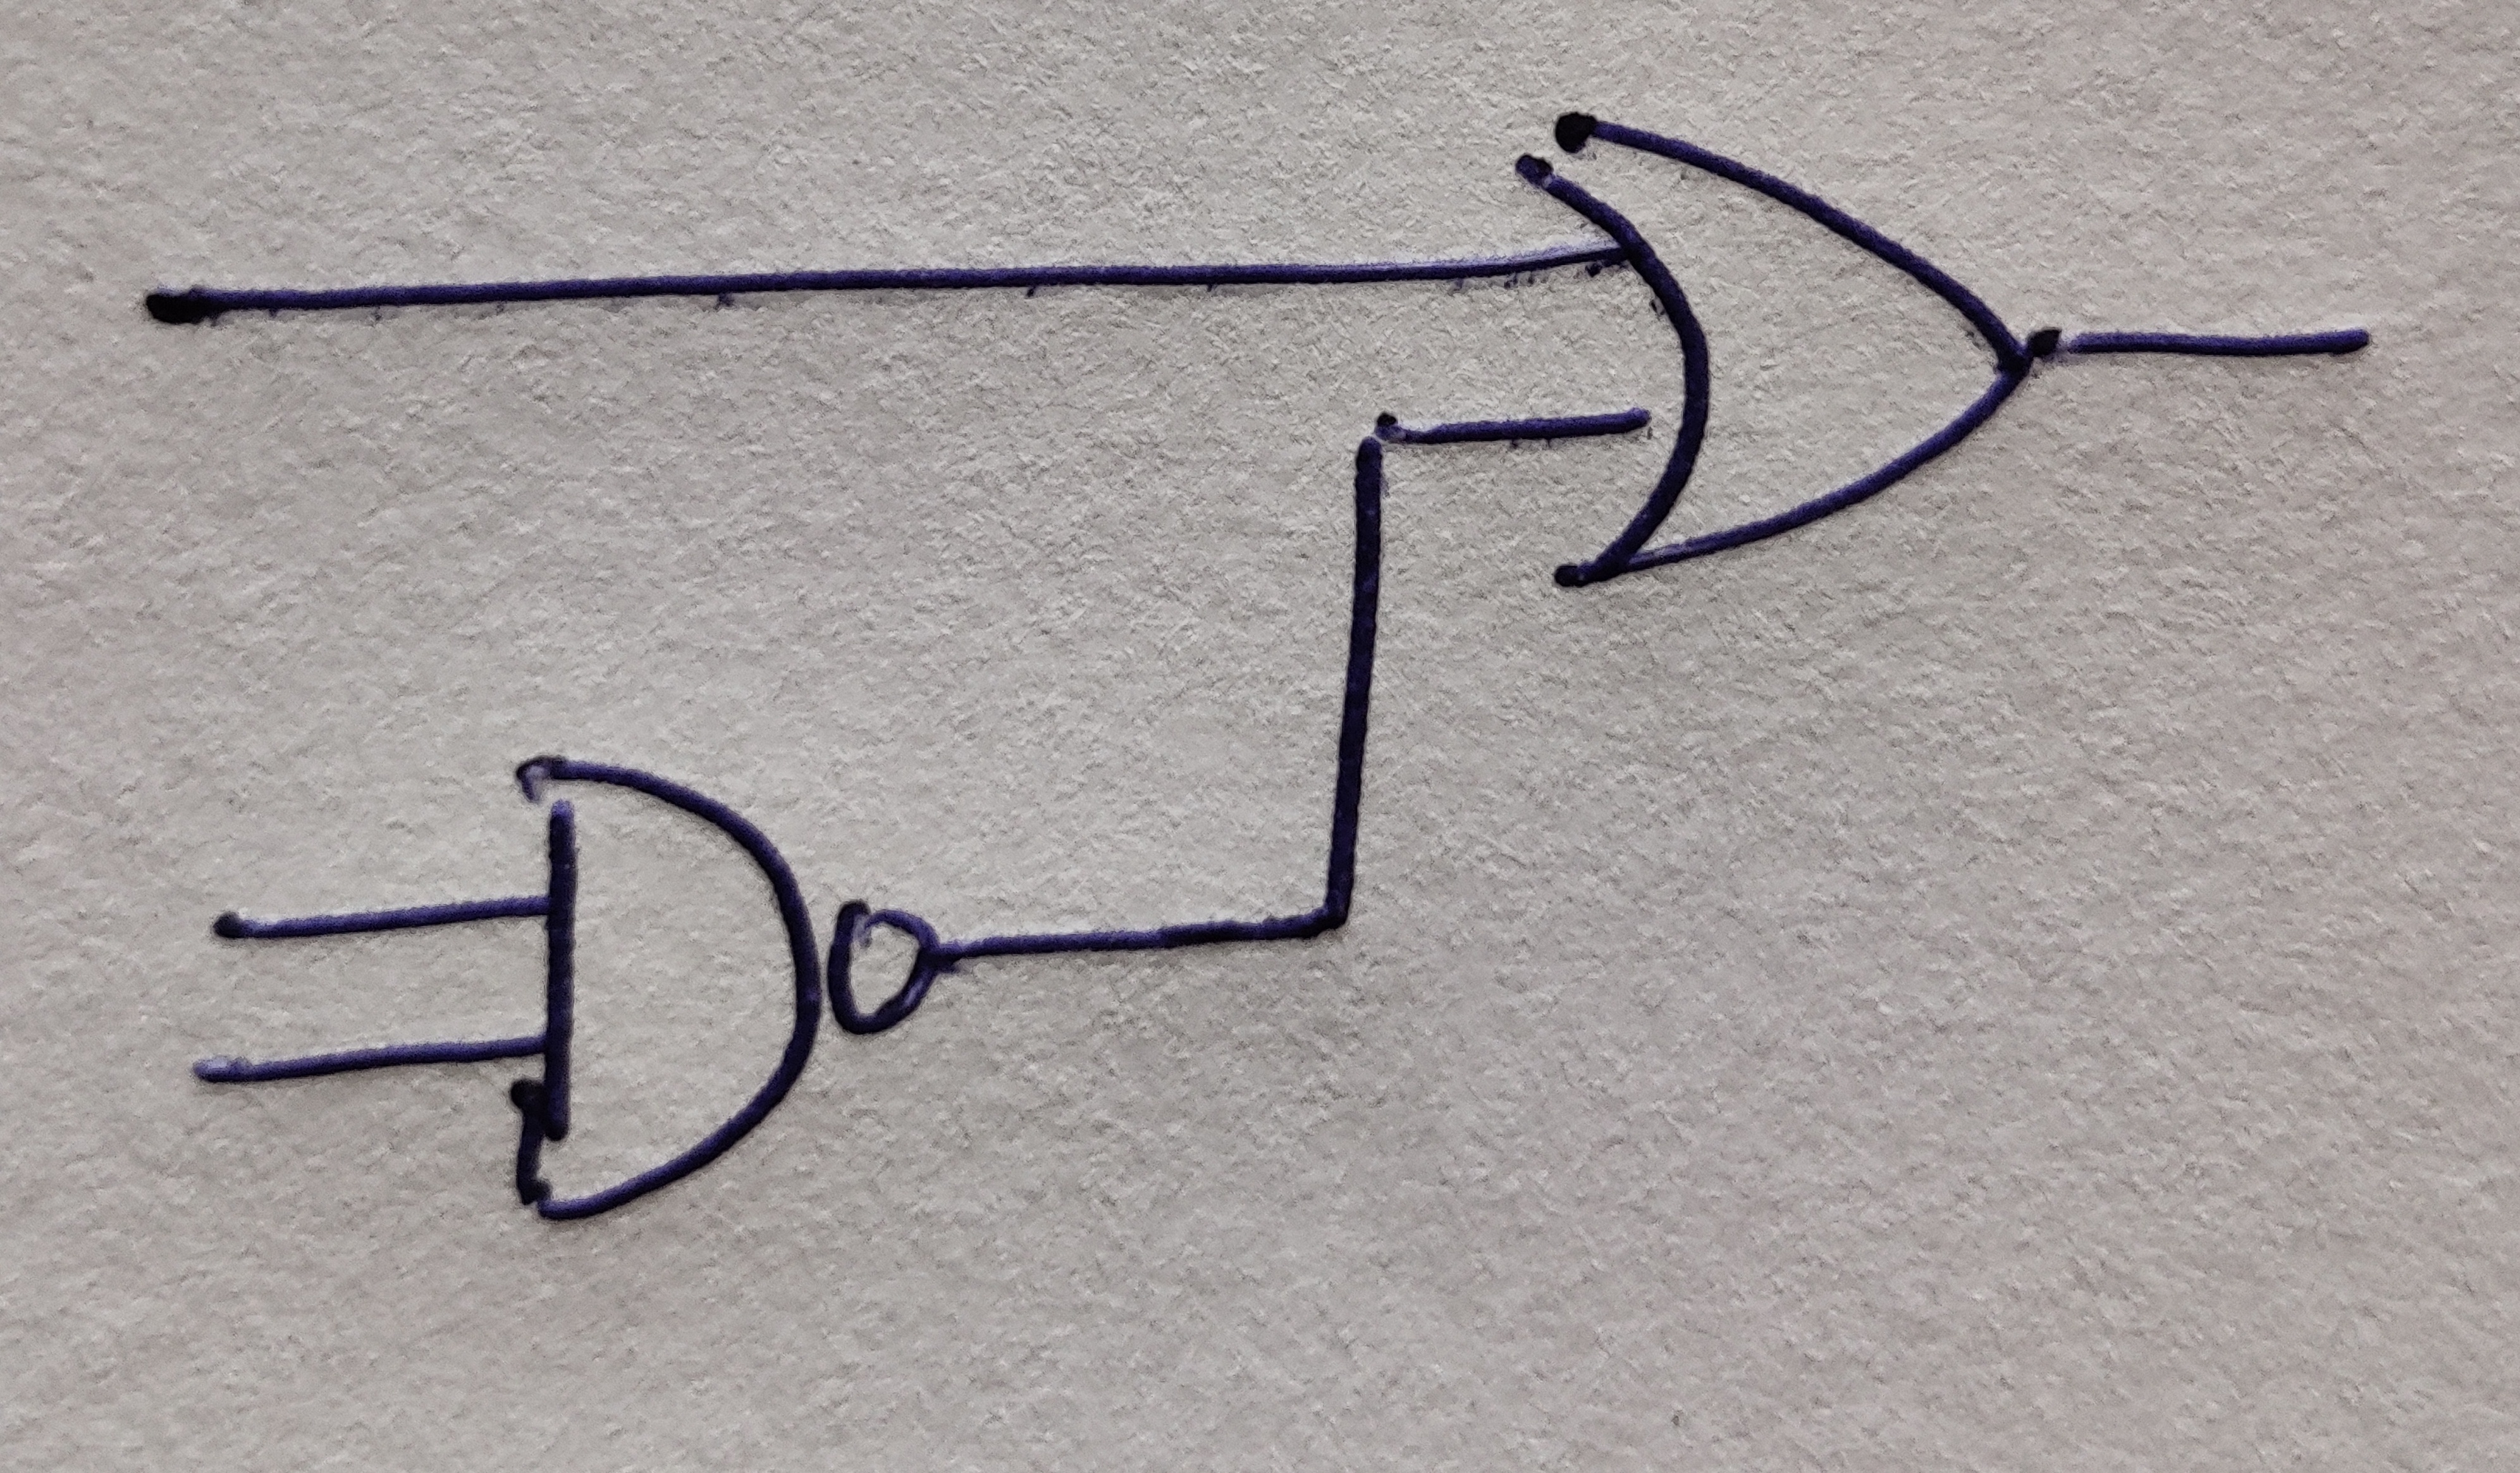not: (820, 900, 945, 1035)
or: (1519, 112, 2038, 593), (512, 747, 827, 1222)
